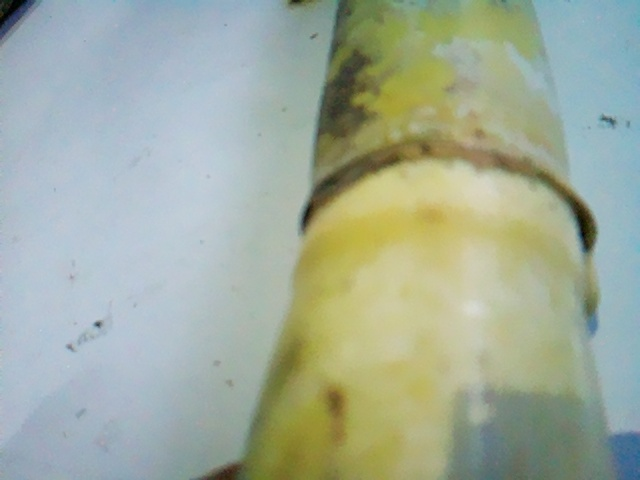Good Sugarcane: (231, 0, 622, 473)
Node: (292, 144, 606, 288)
